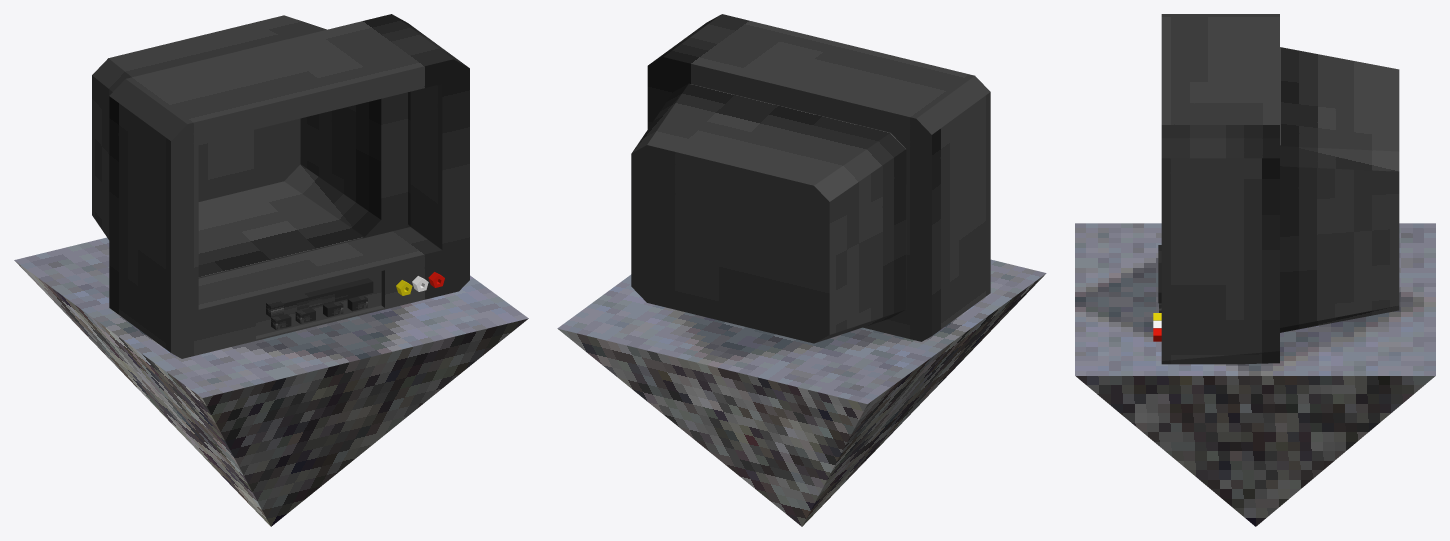
3 renders of one model, left to right at view 1: azimuth 30°, elevation 25°; view 2: azimuth 150°, elevation 25°; view 3: azimuth 270°, elevation 25°, orthographic. The views are drawn at different scales.
Parts seen in each view (by area): view 1: Cube.006, LLL.021, Cube.012, Cube.014; view 2: Cube.006, LLL.021; view 3: Cube.006, LLL.021.
Boxes of the visible parts, x1=… form: Cube.006: x1=92, y1=14, x2=469, y2=358; LLL.021: x1=14, y1=237, x2=528, y2=526; Cube.012: x1=266, y1=278, x2=373, y2=317; Cube.014: x1=271, y1=295, x2=367, y2=329; Cube.006: x1=631, y1=14, x2=990, y2=343; LLL.021: x1=557, y1=259, x2=1046, y2=526; Cube.006: x1=1161, y1=14, x2=1399, y2=364; LLL.021: x1=1075, y1=223, x2=1435, y2=526.
Bounding box in the file's own units: 12.22 × 16.85 × 12.22.
7 materials, 4 textured.
